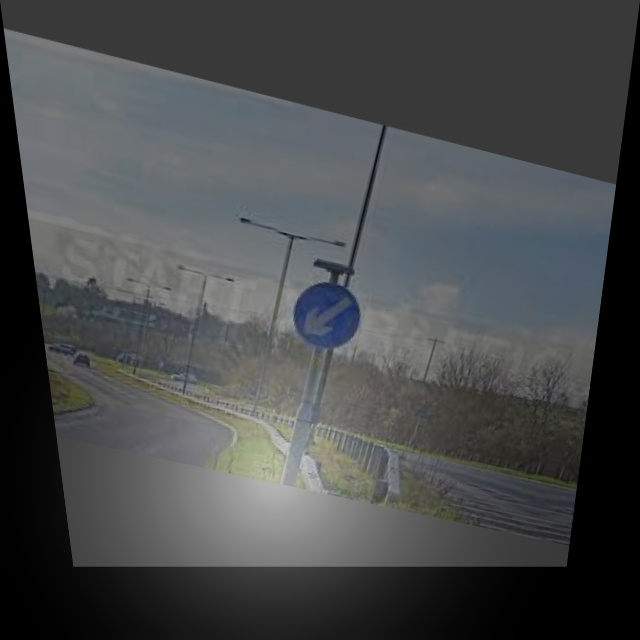Compulsory_Keep_Left: (286, 271, 368, 357)
